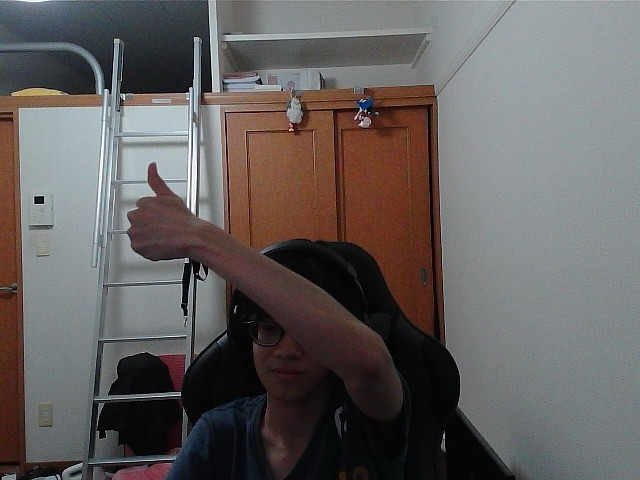thumb_up: (132, 166, 188, 249)
